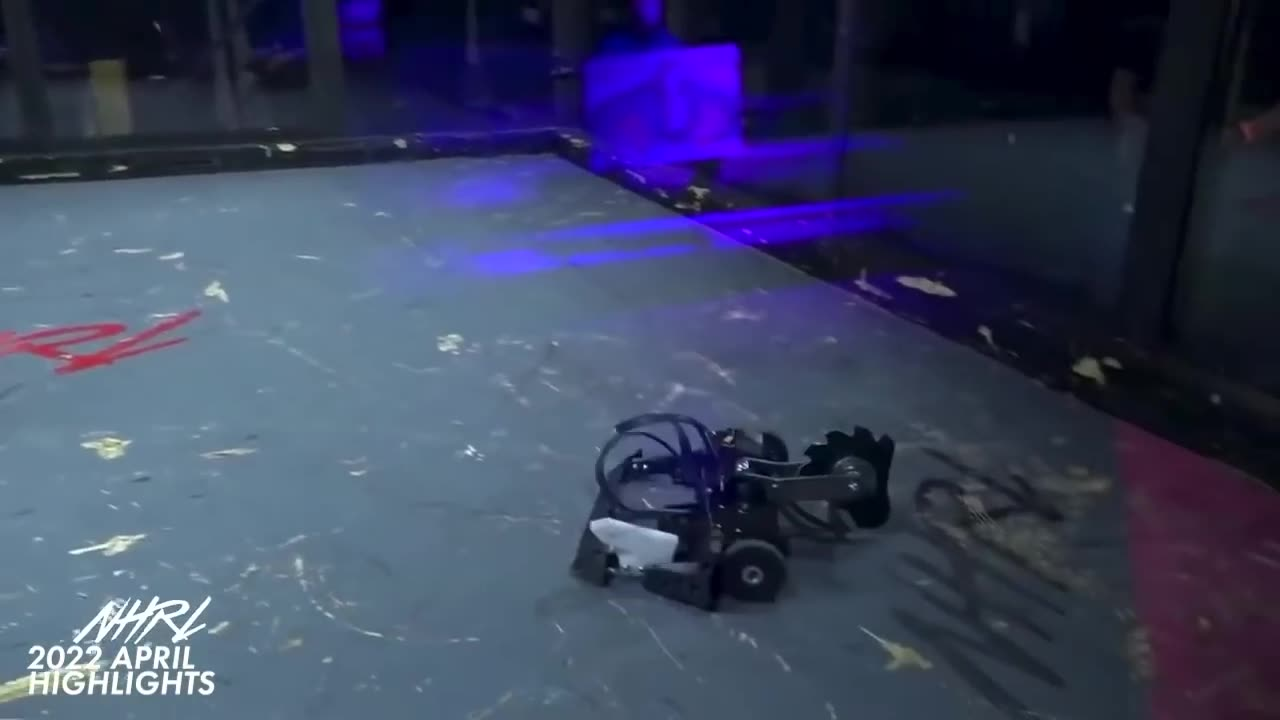combatbot: (570, 407, 897, 615)
